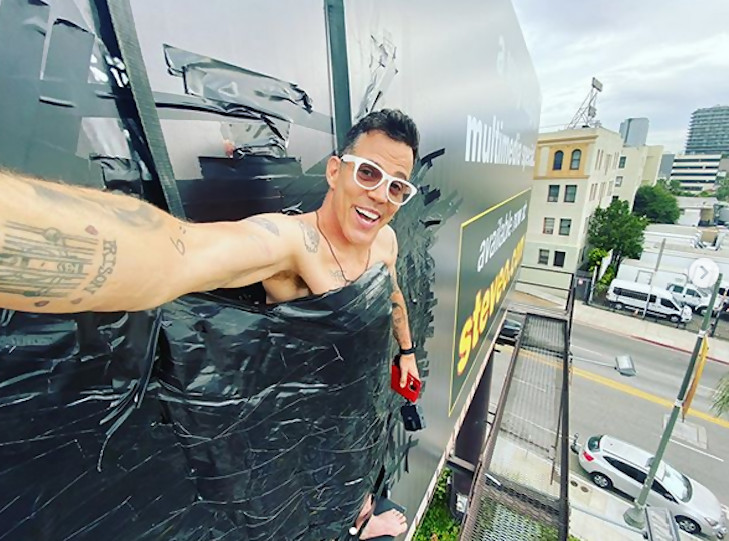without_mask: (345, 151, 404, 229)
